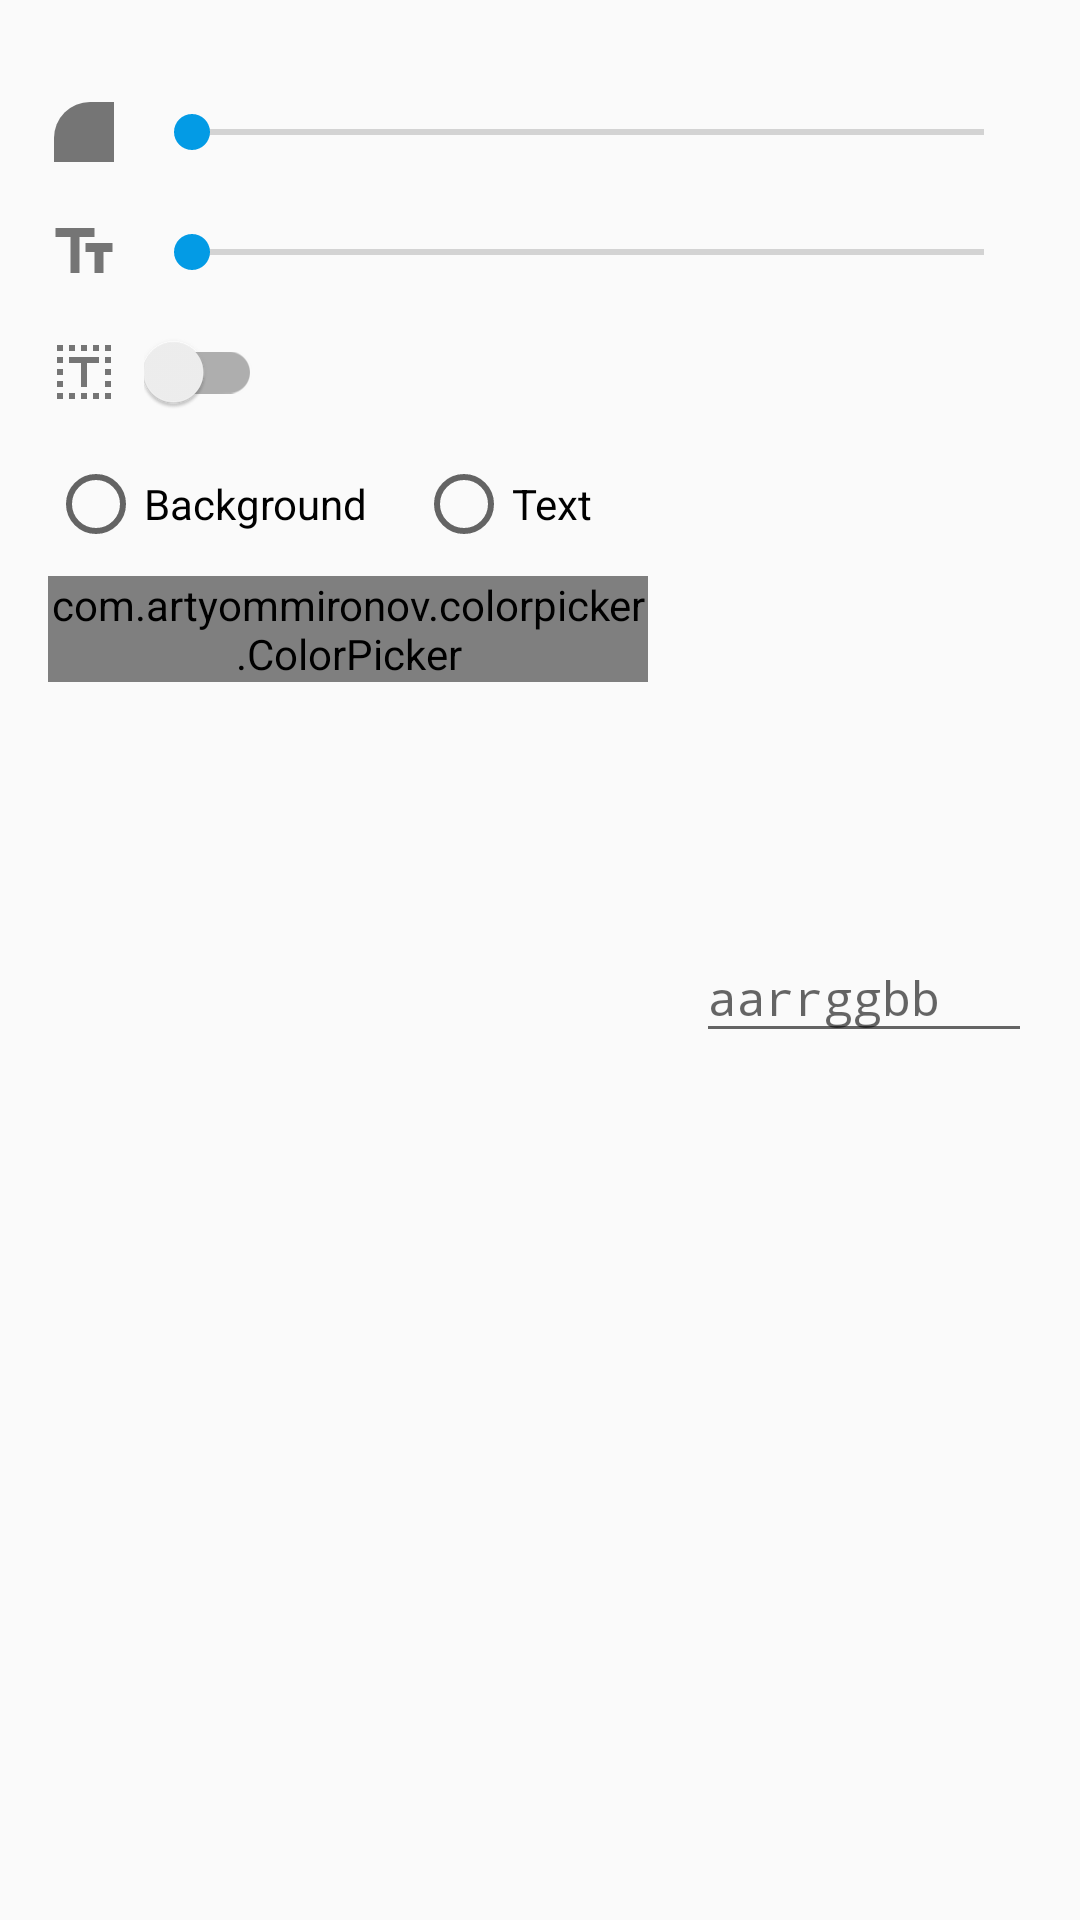

Locate icon controls on the screen. Image size 1080x1920, boxes as (x1, y1, x2, y2).
corners: (54, 102, 114, 162)
text size: (55, 228, 113, 273)
text width: (57, 345, 111, 399)
